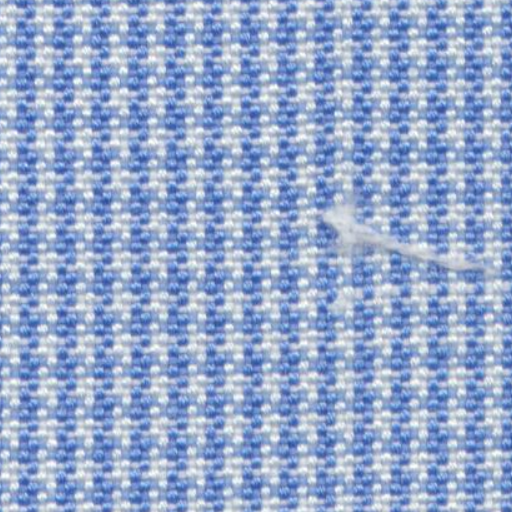DuanSha: (306, 190, 492, 291)
